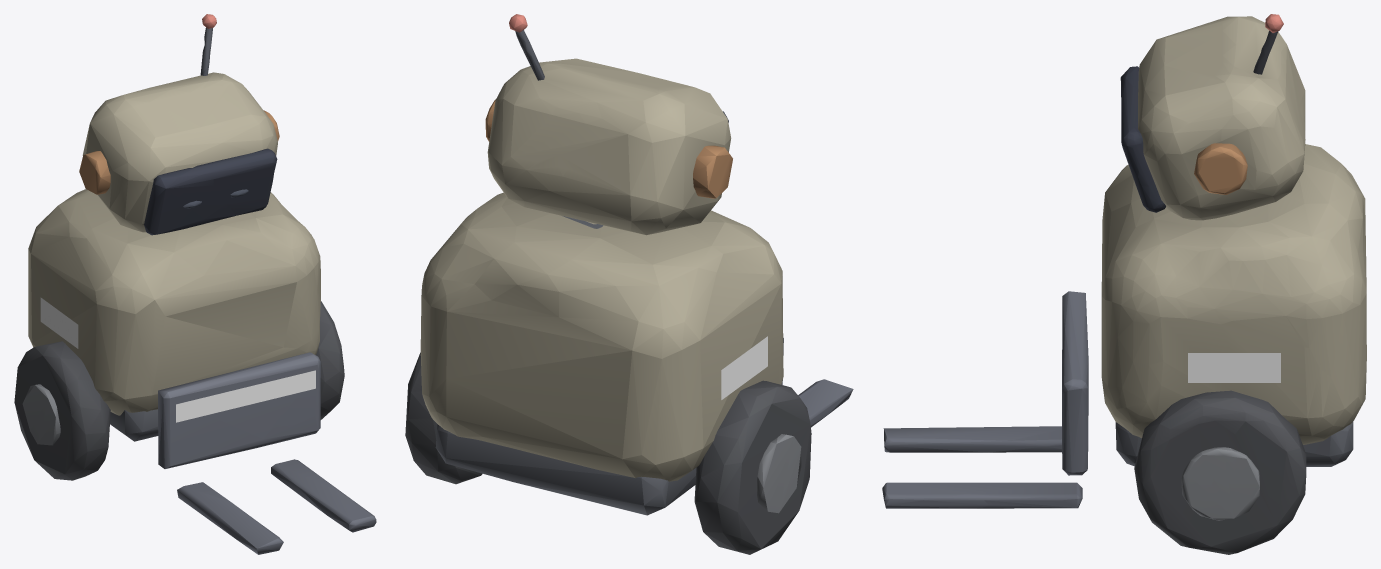
Rendered from robot.glb.
3 views of the same model, side by side, from view 1: azimuth 30°, elevation 25°; view 2: azimuth 150°, elevation 25°; view 3: azimuth 270°, elevation 25° (orthographic). The views are drawn at different scales.
Parts seen in each view (by area): view 1: robot, robot_decal; view 2: robot, robot_decal; view 3: robot, robot_decal.
Part boxes in pixels (x1,y1,x2,y2): robot: (14, 27, 376, 554); robot_decal: (40, 297, 315, 422); robot: (405, 30, 853, 554); robot_decal: (721, 336, 767, 399); robot: (882, 16, 1366, 554); robot_decal: (1188, 353, 1280, 382).
Size of the model in its own units: 0.6038 by 0.8234 by 0.7307.
